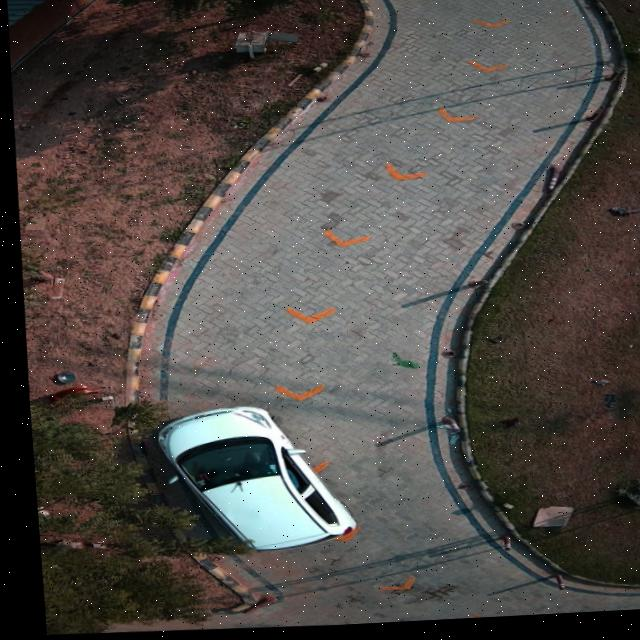car: (148, 407, 347, 553)
